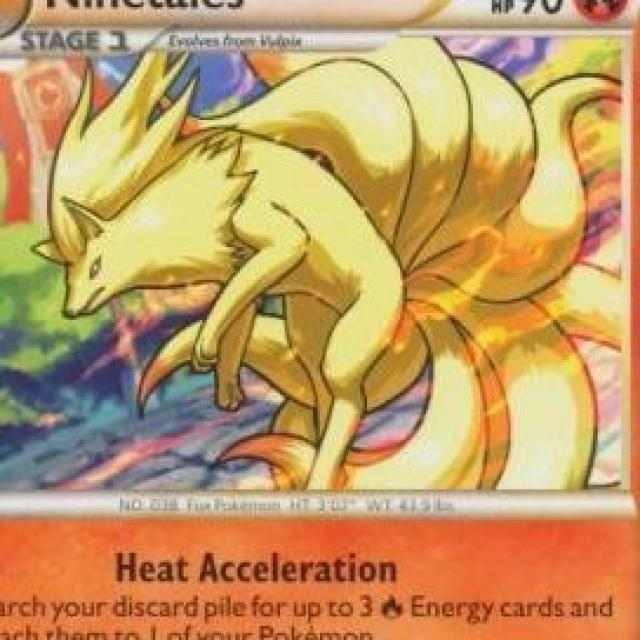Ninetales: (54, 40, 594, 482)
